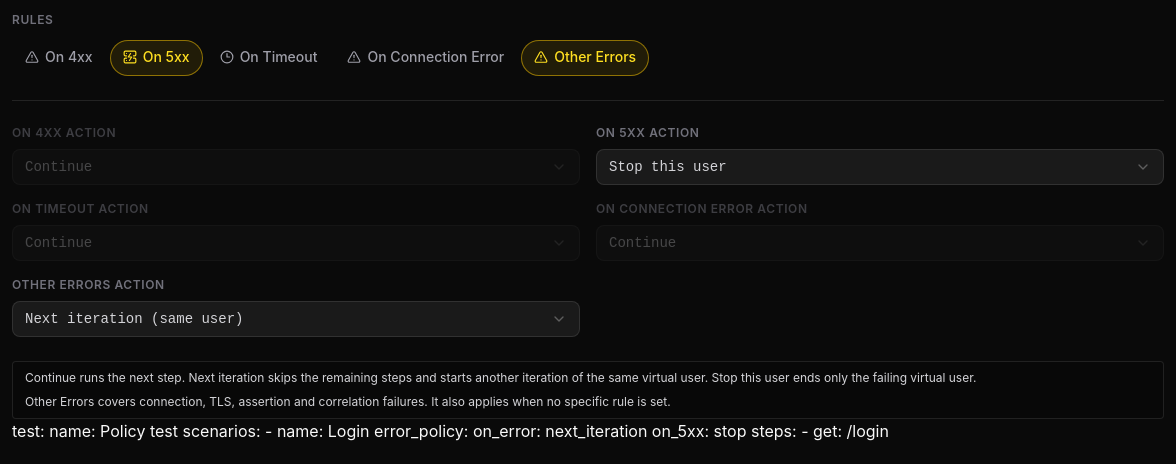
Test: Error policy editing and saving › shows imported policies and saves a change to Stop user
Expected: the dropdown named "On 5xx Action" is enabled, top-left (596, 149), bottom-right (1164, 185)
Press Enter in the dropdown named "Other Errors Action", box top-left (12, 301), bottom-right (580, 337)
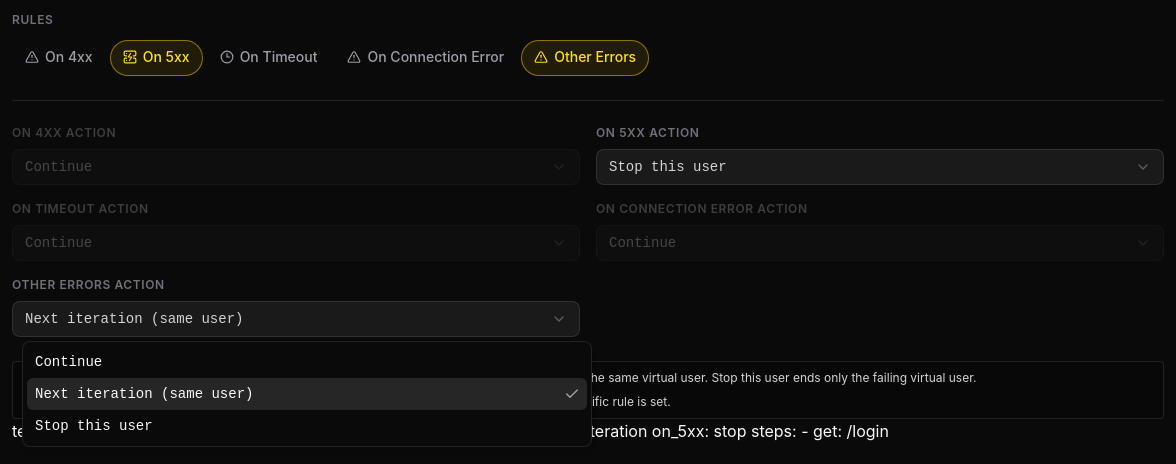
Click the option "Stop this user" at (94, 426), box top-left (35, 418), bottom-right (153, 434)
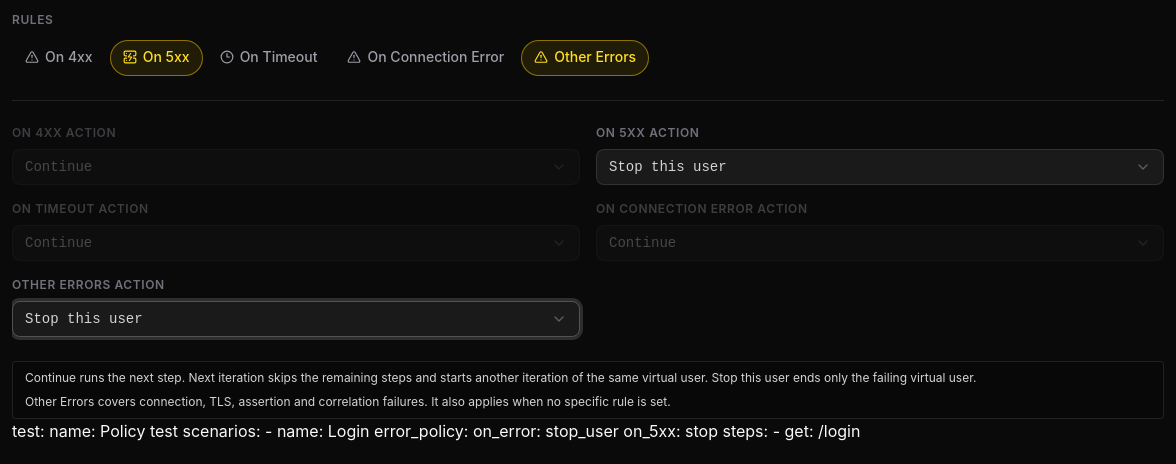
Expected: the text named "Saved YAML" shows "on_5xx: stop", top-left (12, 421), bottom-right (860, 441)
Expected: the text named "Saved YAML" shows "on_error: stop_user", top-left (12, 421), bottom-right (860, 441)
